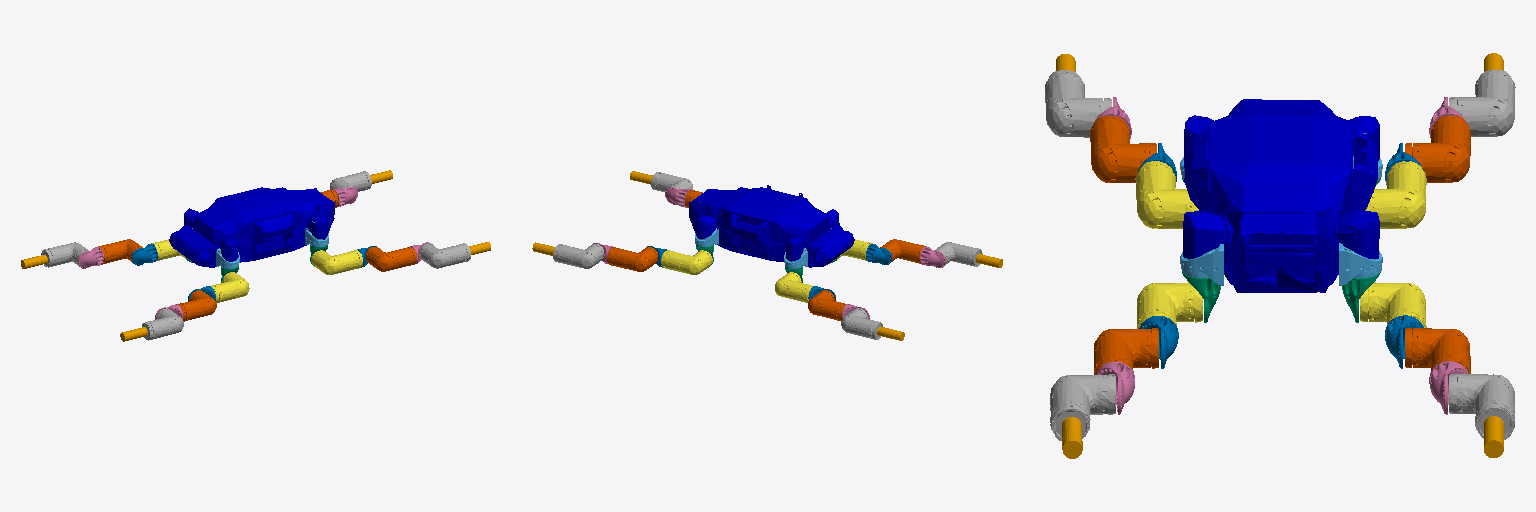
--- Render facts (derived) ---
Views: 3 orthographic renders of the robot side by side, from view 1: azimuth 30°, elevation 25°; view 2: azimuth 150°, elevation 25°; view 3: azimuth 270°, elevation 25°.
Robot: robosimian_caesar — 33 links, 32 joints (32 revolute); root link torso; default pose: all joints at 0.
Visible links, largest first — view 1: torso, limb1_link6, limb1_link2, limb1_link4, limb2_link6, limb2_link2, limb2_link4, limb3_link6, limb3_link4, limb4_link6; view 2: torso, limb4_link6, limb4_link2, limb4_link4, limb3_link6, limb3_link4, limb3_link2, limb2_link6, limb2_link4, limb1_link6; view 3: torso, limb4_link6, limb1_link6, limb3_link6, limb2_link4, limb3_link4, limb2_link6, limb2_link2, limb3_link2, limb4_link4, limb1_link4, limb1_link2 (+11 smaller).
Link boxes in pixels (left/top/right/bottom): torso: left=169, top=187, right=334, bottom=267; limb1_link6: left=420, top=243, right=470, bottom=268; limb1_link2: left=311, top=250, right=362, bottom=274; limb1_link4: left=366, top=247, right=416, bottom=271; limb2_link6: left=142, top=308, right=183, bottom=340; limb2_link2: left=211, top=272, right=249, bottom=303; limb2_link4: left=178, top=290, right=216, bottom=321; limb3_link6: left=41, top=242, right=88, bottom=267; limb3_link4: left=98, top=239, right=142, bottom=263; limb4_link6: left=330, top=171, right=371, bottom=191; torso: left=689, top=185, right=854, bottom=267; limb4_link6: left=553, top=244, right=604, bottom=268; limb4_link2: left=661, top=250, right=712, bottom=274; limb4_link4: left=607, top=247, right=657, bottom=271; limb3_link6: left=841, top=308, right=882, bottom=339; limb3_link4: left=808, top=290, right=845, bottom=320; limb3_link2: left=775, top=272, right=812, bottom=302; limb2_link6: left=934, top=242, right=982, bottom=266; limb2_link4: left=880, top=239, right=925, bottom=263; limb1_link6: left=651, top=172, right=692, bottom=191; torso: left=1183, top=99, right=1379, bottom=292; limb4_link6: left=1449, top=374, right=1514, bottom=439; limb1_link6: left=1050, top=374, right=1115, bottom=440; limb3_link6: left=1449, top=69, right=1515, bottom=136; limb2_link4: left=1090, top=116, right=1156, bottom=182; limb3_link4: left=1405, top=115, right=1470, bottom=182; limb2_link6: left=1045, top=70, right=1111, bottom=137; limb2_link2: left=1135, top=161, right=1198, bottom=228; limb3_link2: left=1365, top=161, right=1426, bottom=228; limb4_link4: left=1405, top=328, right=1470, bottom=373; limb1_link4: left=1094, top=328, right=1158, bottom=374; limb1_link2: left=1137, top=282, right=1202, bottom=328.
Bounding box of the posed robot: 2.42 × 1.24 × 0.3943 m (x, y, z).
33 mesh visuals loaded from 5 distinct referenced files (4 binary STL, 1 ASCII STL).

URDF robot description (robosimian_caesar):
<robot name="robosimian_caesar">
   <link name="torso">
      <inertial>
        <mass value="40.000000" />
        <origin xyz="-0.000820 -0.002060 -0.021800" rpy="0 0 0" />
        <inertia ixx="0.248970" ixy="0.000000" ixz="0.000000" iyy="0.703230" iyz="0.001820" izz="0.772560" />
      </inertial>
      <visual>
        <origin xyz="0 0 0" rpy="3.1415926 0 0" />
        <geometry>
           <mesh filename="stl_0_3/robosim_chassis.stl" scale="1 1 1" />
        </geometry>
        <material name="blue">
	      <color rgba="0 0 .8 1" />
        </material>
      </visual>
      <collision group="default">
        <origin rpy="3.1415926 0 0" xyz="0 0 0"/>
        <geometry>
           <box size="0.257 0.50 0.238"/>
        </geometry>
      </collision>
      <collision group="default">
        <origin rpy="3.1415926 0 0" xyz="0 0 0"/>
        <geometry>
           <box size="0.93 0.230 0.238"/>
        </geometry>
      </collision>
      <collision group="default">
        <origin rpy="3.1415926 0 -0.38153" xyz="0.25393 0.075769 0"/>
        <geometry>
           <box size="0.36257 0.23 0.238"/>
        </geometry>
      </collision>
      <collision group="default">
        <origin rpy="3.1415926 0 0.38153" xyz="-0.25393 0.075769 0"/>
        <geometry>
           <box size="0.36257 0.23 0.238"/>
        </geometry>
      </collision>
      <collision group="default">
        <origin rpy="3.1415926 0 0.38153" xyz="0.25393 -0.075769 0"/>
        <geometry>
           <box size="0.36257 0.23 0.238"/>
        </geometry>
      </collision>
      <collision group="default">
        <origin rpy="3.1415926 0 -0.38153" xyz="-0.25393 -0.075769 0"/>
        <geometry>
           <box size="0.36257 0.23 0.238"/>
        </geometry>
      </collision>
      <collision group="default">
        <origin rpy="3.1415926 -0.383972 0.000000" xyz="0.417050 0.000000 -0.158640"/>
        <geometry>
          <cylinder length="0.144" radius="0.05"/>
        </geometry>
      </collision>
   </link>

   <link name="limb1_link0">
      <inertial>
        <mass value="0.000000" />
        <origin xyz="0.000000 0.000000 0.000000" rpy="0 0 0" />
        <inertia ixx="0.000000" ixy="0.000000" ixz="0.000000" iyy="0.000000" iyz="0.000000" izz="0.000000" />
      </inertial>
      <visual>
        <origin xyz="0.000000 0 0" rpy="0 0 0" />
        <geometry>
           <mesh filename="stl_0_3/robosim_fts.stl" scale="1 1 1" />
        </geometry>
      </visual>
      <collision group="default">
        <origin rpy="3.1415 -1.57080 0" xyz="-.025 0 0"/>
        <geometry>
          <cylinder length="0.145" radius="0.05"/>
        </geometry>
      </collision>
   </link>

   <link name="limb1_link1">
      <inertial>
        <mass value="0.429000" />
        <origin xyz="-0.050402 0.012816 0.000000" rpy="0 0 0" />
        <inertia ixx="0.000741" ixy="-0.000215" ixz="0.000000" iyy="0.002044" iyz="0.000000" izz="0.001885" />
      </inertial>
      <visual>
        <origin xyz="0.000000 0 0" rpy="0 0 0" />
        <geometry>
           <mesh filename="stl_0_3/robosim_pitch_link.stl" scale="1 1 1" />
        </geometry>
      </visual>
      <collision group="default">
        <origin rpy="3.1415 -1.57080 0" xyz="-0.07 0 0"/>
        <geometry>
          <cylinder length="0.07" radius="0.055"/>
        </geometry>
      </collision>
   </link>

   <link name="limb1_link2">
      <inertial>
        <mass value="3.975000" />
        <origin xyz="0.067354 -0.096472 0.000262" rpy="0 0 0" />
        <inertia ixx="0.044712" ixy="-0.030354" ixz="0.000012" iyy="0.033445" iyz="-0.000141" izz="0.074293" />
      </inertial>
      <visual>
        <origin xyz="0.000000 0 0" rpy="0 0 0" />
        <geometry>
           <mesh filename="stl_0_3/robosim_roll_link.stl" scale="1 1 1" />
        </geometry>
      </visual>
      <collision group="default">
        <origin rpy="3.1415 -1.57080 0" xyz="0.065 -0.12 0"/>
        <geometry>
          <cylinder length="0.24" radius="0.055"/>
        </geometry>
      </collision>
      <collision group="default">
        <origin rpy="1.57080 1.57080 0.0" xyz="0.0 -0.035 0"/>
        <geometry>
          <cylinder length="0.075" radius="0.055"/>
        </geometry>
      </collision>
   </link>

   <link name="limb1_link3">
      <inertial>
        <mass value="0.429000" />
        <origin xyz="-0.050402 0.012816 0.000000" rpy="0 0 0" />
        <inertia ixx="0.000741" ixy="-0.000215" ixz="0.000000" iyy="0.002044" iyz="0.000000" izz="0.001885" />
      </inertial>
      <visual>
        <origin xyz="0.000000 0 0" rpy="0 0 0" />
        <geometry>
           <mesh filename="stl_0_3/robosim_pitch_link.stl" scale="1 1 1" />
        </geometry>
      </visual>
      <collision group="default">
        <origin rpy="3.1415 -1.57080 0" xyz="-0.07 0 0"/>
        <geometry>
          <cylinder length="0.07" radius="0.055"/>
        </geometry>
      </collision>
   </link>

   <link name="limb1_link4">
      <inertial>
        <mass value="3.975000" />
        <origin xyz="0.067354 -0.096472 0.000262" rpy="0 0 0" />
        <inertia ixx="0.044712" ixy="-0.030354" ixz="0.000012" iyy="0.033445" iyz="-0.000141" izz="0.074293" />
      </inertial>
      <visual>
        <origin xyz="0.000000 0 0" rpy="0 0 0" />
        <geometry>
           <mesh filename="stl_0_3/robosim_roll_link.stl" scale="1 1 1" />
        </geometry>
      </visual>
      <collision group="default">
        <origin rpy="3.1415 -1.57080 0" xyz="0.065 -0.12 0"/>
        <geometry>
          <cylinder length="0.24" radius="0.055"/>
        </geometry>
      </collision>
      <collision group="default">
        <origin rpy="1.57080 1.57080 0.0" xyz="0.0 -0.035 0"/>
        <geometry>
          <cylinder length="0.075" radius="0.055"/>
        </geometry>
      </collision>
   </link>

   <link name="limb1_link5">
      <inertial>
        <mass value="0.429000" />
        <origin xyz="-0.050402 0.012816 0.000000" rpy="0 0 0" />
        <inertia ixx="0.000741" ixy="-0.000215" ixz="0.000000" iyy="0.002044" iyz="0.000000" izz="0.001885" />
      </inertial>
      <visual>
        <origin xyz="0.000000 0 0" rpy="0 0 0" />
        <geometry>
           <mesh filename="stl_0_3/robosim_pitch_link.stl" scale="1 1 1" />
        </geometry>
      </visual>
      <collision group="default">
        <origin rpy="3.1415 -1.57080 0" xyz="-0.07 0 0"/>
        <geometry>
          <cylinder length="0.07" radius="0.055"/>
        </geometry>
      </collision>
   </link>

   <link name="limb1_link6">
      <inertial>
        <mass value="3.975000" />
        <origin xyz="0.067354 -0.096472 0.000262" rpy="0 0 0" />
        <inertia ixx="0.044712" ixy="-0.030354" ixz="0.000012" iyy="0.033445" iyz="-0.000141" izz="0.074293" />
      </inertial>
      <visual>
        <origin xyz="0.000000 0 0" rpy="0 0 0" />
        <geometry>
           <mesh filename="stl_0_3/robosim_roll_link.stl" scale="1 1 1" />
        </geometry>
      </visual>
      <collision group="default">
        <origin rpy="3.1415 -1.57080 0" xyz="0.065 -0.12 0"/>
        <geometry>
          <cylinder length="0.24" radius="0.055"/>
        </geometry>
      </collision>
      <collision group="default">
        <origin rpy="1.57080 1.57080 0.0" xyz="0.0 -0.035 0"/>
        <geometry>
          <cylinder length="0.075" radius="0.055"/>
        </geometry>
      </collision>
   </link>

   <link name="limb1_link7">
      <inertial>
        <mass value="1.760000" />
        <origin xyz="0.112290 -0.000164 0.000000" rpy="0 0 0" />
        <inertia ixx="0.001913" ixy="-0.000007" ixz="0.000000" iyy="0.006680" iyz="0.000000" izz="0.006125" />
      </inertial>
      <visual>
        <origin xyz="0.000000 0 0" rpy="0 0 0" />
        <geometry>
           <mesh filename="stl_0_3/ankle_mm.STL" scale="0.001 0.001 0.001" />
        </geometry>
      </visual>
      <collision group="default">
        <origin rpy="3.1415 -1.57080 0" xyz="0.075 0 0"/>
        <geometry>
          <cylinder length="0.15" radius="0.05"/>
        </geometry>
      </collision>
   </link>



   <joint name="limb1_joint0" type="revolute">
      <origin xyz="0.29326 -0.20940 -0.03650"  rpy="0.00000 1.57080 3.1515926" />
      <parent link="torso" />
      <child link="limb1_link0" />
      <axis xyz="0 0 1" />
      <limit effort="1000.0" lower="-3.4906" upper="3.4906" velocity="0.5"/>
      <dynamics damping="0" friction="0"/>
   </joint>

   <joint name="limb1_joint1" type="revolute">
      <origin xyz="0.17203 0.00000 0.00000"  rpy="3.14159 -0.00000 0.00000" />
      <axis xyz="1 0 0" />
      <parent link="limb1_link0" />
      <child link="limb1_link1" />
      <limit effort="1000.0" lower="-3.1415" upper="3.1415" velocity="0.5"/>
      <dynamics damping="0" friction="0"/>
   </joint>

   <joint name="limb1_joint2" type="revolute">
      <origin xyz="0.00000 0.00000 0.00000"  rpy="0.00000 -1.5708 0.00000" />
      <axis xyz="0 -1 0" />
      <parent link="limb1_link1" />
      <child link="limb1_link2" />
      <limit effort="1000.0" lower="-3.1415" upper="3.1415" velocity="0.5"/>
      <dynamics damping="0" friction="0"/>
   </joint>

   <joint name="limb1_joint3" type="revolute">
      <origin xyz="0.28650 -0.11700 0.00000"  rpy="0.00000 -0.00000 0.00000" />
      <axis xyz="1 0 0" />
      <parent link="limb1_link2" />
      <child link="limb1_link3" />
      <limit effort="1000.0" lower="-3.1415" upper="3.1415" velocity="0.5"/>
      <dynamics damping="0" friction="0"/>
   </joint>

   <joint name="limb1_joint4" type="revolute">
      <origin xyz="0.00000 0.00000 0.00000"  rpy="0.00000 -0.00000 0.00000" />
      <axis xyz="0 -1 0" />
      <parent link="limb1_link3" />
      <child link="limb1_link4" />
      <limit effort="1000.0" lower="-3.1415" upper="3.1415" velocity="0.5"/>
      <dynamics damping="0" friction="0"/>
   </joint>

   <joint name="limb1_joint5" type="revolute">
      <origin xyz="0.28650 -0.11700 0.00000"  rpy="0.00000 -0.00000 0.00000" />
      <axis xyz="1 0 0" />
      <parent link="limb1_link4" />
      <child link="limb1_link5" />
      <limit effort="1000.0" lower="-3.1415" upper="3.1415" velocity="0.5"/>
      <dynamics damping="0" friction="0"/>
   </joint>

   <joint name="limb1_joint6" type="revolute">
      <origin xyz="0.00000 0.00000 0.00000"  rpy="0.00000 -0.00000 0.00000" />
      <axis xyz="0 -1 0" />
      <parent link="limb1_link5" />
      <child link="limb1_link6" />
      <limit effort="1000.0" lower="-3.1415" upper="3.1415" velocity="0.5"/>
      <dynamics damping="0" friction="0"/>
   </joint>

   <joint name="limb1_joint7" type="revolute">
      <origin xyz="0.19250 -0.11700 0.00000"  rpy="0.00000 -0.00000 0.00000" />
      <axis xyz="1 0 0" />
      <parent link="limb1_link6" />
      <child link="limb1_link7" />
      <limit effort="1000.0" lower="-3.1415" upper="3.1415" velocity="0.5"/>
      <dynamics damping="0" friction="0"/>
   </joint>



   <link name="limb2_link0">
      <inertial>
        <mass value="0.000000" />
        <origin xyz="0.000000 0.000000 0.000000" rpy="0 0 0" />
        <inertia ixx="0.000000" ixy="0.000000" ixz="0.000000" iyy="0.000000" iyz="0.000000" izz="0.000000" />
      </inertial>
      <visual>
        <origin xyz="0.000000 0 0" rpy="0 0 0" />
        <geometry>
           <mesh filename="stl_0_3/robosim_fts.stl" scale="1 1 1" />
        </geometry>
      </visual>
      <collision group="default">
        <origin rpy="3.1415 -1.57080 0" xyz="-.025 0 0"/>
        <geometry>
          <cylinder length="0.145" radius="0.05"/>
        </geometry>
      </collision>
   </link>

   <link name="limb2_link1">
      <inertial>
        <mass value="0.429000" />
        <origin xyz="-0.050402 0.012816 0.000000" rpy="0 0 0" />
        <inertia ixx="0.000741" ixy="-0.000215" ixz="0.000000" iyy="0.002044" iyz="0.000000" izz="0.001885" />
      </inertial>
      <visual>
        <origin xyz="0.000000 0 0" rpy="0 0 0" />
        <geometry>
           <mesh filename="stl_0_3/robosim_pitch_link.stl" scale="1 1 1" />
        </geometry>
      </visual>
      <collision group="default">
        <origin rpy="3.1415 -1.57080 0" xyz="-0.07 0 0"/>
        <geometry>
          <cylinder length="0.07" radius="0.055"/>
        </geometry>
      </collision>
   </link>

   <link name="limb2_link2">
      <inertial>
        <mass value="3.975000" />
        <origin xyz="0.067354 -0.096472 0.000262" rpy="0 0 0" />
        <inertia ixx="0.044712" ixy="-0.030354" ixz="0.000012" iyy="0.033445" iyz="-0.000141" izz="0.074293" />
      </inertial>
      <visual>
        <origin xyz="0.000000 0 0" rpy="0 0 0" />
        <geometry>
           <mesh filename="stl_0_3/robosim_roll_link.stl" scale="1 1 1" />
        </geometry>
      </visual>
      <collision group="default">
        <origin rpy="3.1415 -1.57080 0" xyz="0.065 -0.12 0"/>
        <geometry>
          <cylinder length="0.24" radius="0.055"/>
        </geometry>
      </collision>
      <collision group="default">
        <origin rpy="1.57080 1.57080 0.0" xyz="0.0 -0.035 0"/>
        <geometry>
          <cylinder length="0.075" radius="0.055"/>
        </geometry>
      </collision>
   </link>

   <link name="limb2_link3">
      <inertial>
        <mass value="0.429000" />
        <origin xyz="-0.050402 0.012816 0.000000" rpy="0 0 0" />
        <inertia ixx="0.000741" ixy="-0.000215" ixz="0.000000" iyy="0.002044" iyz="0.000000" izz="0.001885" />
      </inertial>
      <visual>
        <origin xyz="0.000000 0 0" rpy="0 0 0" />
        <geometry>
           <mesh filename="stl_0_3/robosim_pitch_link.stl" scale="1 1 1" />
        </geometry>
      </visual>
      <collision group="default">
        <origin rpy="3.1415 -1.57080 0" xyz="-0.07 0 0"/>
        <geometry>
          <cylinder length="0.07" radius="0.055"/>
        </geometry>
      </collision>
   </link>

   <link name="limb2_link4">
      <inertial>
        <mass value="3.975000" />
        <origin xyz="0.067354 -0.096472 0.000262" rpy="0 0 0" />
        <inertia ixx="0.044712" ixy="-0.030354" ixz="0.000012" iyy="0.033445" iyz="-0.000141" izz="0.074293" />
      </inertial>
      <visual>
        <origin xyz="0.000000 0 0" rpy="0 0 0" />
        <geometry>
           <mesh filename="stl_0_3/robosim_roll_link.stl" scale="1 1 1" />
        </geometry>
      </visual>
      <collision group="default">
        <origin rpy="3.1415 -1.57080 0" xyz="0.065 -0.12 0"/>
        <geometry>
          <cylinder length="0.24" radius="0.055"/>
        </geometry>
      </collision>
      <collision group="default">
        <origin rpy="1.57080 1.57080 0.0" xyz="0.0 -0.035 0"/>
        <geometry>
          <cylinder length="0.075" radius="0.055"/>
        </geometry>
      </collision>
   </link>

   <link name="limb2_link5">
      <inertial>
        <mass value="0.429000" />
        <origin xyz="-0.050402 0.012816 0.000000" rpy="0 0 0" />
        <inertia ixx="0.000741" ixy="-0.000215" ixz="0.000000" iyy="0.002044" iyz="0.000000" izz="0.001885" />
      </inertial>
      <visual>
        <origin xyz="0.000000 0 0" rpy="0 0 0" />
        <geometry>
           <mesh filename="stl_0_3/robosim_pitch_link.stl" scale="1 1 1" />
        </geometry>
      </visual>
      <collision group="default">
        <origin rpy="3.1415 -1.57080 0" xyz="-0.07 0 0"/>
        <geometry>
          <cylinder length="0.07" radius="0.055"/>
        </geometry>
      </collision>
   </link>

   <link name="limb2_link6">
      <inertial>
        <mass value="3.975000" />
        <origin xyz="0.067354 -0.096472 0.000262" rpy="0 0 0" />
        <inertia ixx="0.044712" ixy="-0.030354" ixz="0.000012" iyy="0.033445" iyz="-0.000141" izz="0.074293" />
      </inertial>
      <visual>
        <origin xyz="0.000000 0 0" rpy="0 0 0" />
        <geometry>
           <mesh filename="stl_0_3/robosim_roll_link.stl" scale="1 1 1" />
        </geometry>
      </visual>
      <collision group="default">
        <origin rpy="3.1415 -1.57080 0" xyz="0.065 -0.12 0"/>
        <geometry>
          <cylinder length="0.24" radius="0.055"/>
        </geometry>
      </collision>
      <collision group="default">
        <origin rpy="1.57080 1.57080 0.0" xyz="0.0 -0.035 0"/>
        <geometry>
          <cylinder length="0.075" radius="0.055"/>
        </geometry>
      </collision>
      <collision group="default">
        <origin rpy="1.57080 1.57080 0.0" xyz="0.0 -0.19 0"/>
        <geometry>
          <cylinder length="0.0375" radius="0.080"/>
        </geometry>
      </collision>
   </link>

   <link name="limb2_link7">
      <inertial>
        <mass value="1.760000" />
        <origin xyz="0.112290 -0.000164 0.000000" rpy="0 0 0" />
        <inertia ixx="0.001913" ixy="-0.000007" ixz="0.000000" iyy="0.006680" iyz="0.000000" izz="0.006125" />
      </inertial>
      <visual>
        <origin xyz="0.000000 0 0" rpy="0 0 0" />
        <geometry>
           <mesh filename="stl_0_3/ankle_mm.STL" scale="0.001 0.001 0.001" />
        </geometry>
      </visual>
      <collision group="default">
        <origin rpy="3.1415 -1.57080 0" xyz="0.075 0 0"/>
        <geometry>
          <cylinder length="0.15" radius="0.05"/>
        </geometry>
      </collision>
   </link>


   <joint name="limb2_joint0" type="revolute">
      <origin xyz="-0.29326 -0.20940 -0.03650"  rpy="0.00000 1.57080 3.1515926" />
      <parent link="torso" />
      <child link="limb2_link0" />
      <axis xyz="0 0 1" />
      <limit effort="1000.0" lower="-3.4906" upper="3.4906" velocity="0.5"/>
      <dynamics damping="0" friction="0"/>
   </joint>

   <joint name="limb2_joint1" type="revolute">
      <origin xyz="0.17203 0.00000 0.00000"  rpy="3.14159 -0.00000 0.00000" />
      <axis xyz="1 0 0" />
      <parent link="limb2_link0" />
      <child link="limb2_link1" />
      <limit effort="1000.0" lower="-3.1415" upper="3.1415" velocity="0.5"/>
      <dynamics damping="0" friction="0"/>
   </joint>

   <joint name="limb2_joint2" type="revolute">
      <origin xyz="0.00000 0.00000 0.00000"  rpy="0.00000 1.57080 0.00000" />
      <axis xyz="0 -1 0" />
      <parent link="limb2_link1" />
      <child link="limb2_link2" />
      <limit effort="1000.0" lower="-3.1415" upper="3.1415" velocity="0.5"/>
      <dynamics damping="0" friction="0"/>
   </joint>

   <joint name="limb2_joint3" type="revolute">
      <origin xyz="0.28650 -0.11700 0.00000"  rpy="0.00000 -0.00000 0.00000" />
      <axis xyz="1 0 0" />
      <parent link="limb2_link2" />
      <child link="limb2_link3" />
      <limit effort="1000.0" lower="-3.1415" upper="3.1415" velocity="0.5"/>
      <dynamics damping="0" friction="0"/>
   </joint>

   <joint name="limb2_joint4" type="revolute">
      <origin xyz="0.00000 0.00000 0.00000"  rpy="0.00000 -0.00000 0.00000" />
      <axis xyz="0 -1 0" />
      <parent link="limb2_link3" />
      <child link="limb2_link4" />
      <limit effort="1000.0" lower="-3.1415" upper="3.1415" velocity="0.5"/>
      <dynamics damping="0" friction="0"/>
   </joint>

   <joint name="limb2_joint5" type="revolute">
      <origin xyz="0.28650 -0.11700 0.00000"  rpy="0.00000 -0.00000 0.00000" />
      <axis xyz="1 0 0" />
      <parent link="limb2_link4" />
      <child link="limb2_link5" />
      <limit effort="1000.0" lower="-3.1415" upper="3.1415" velocity="0.5"/>
      <dynamics damping="0" friction="0"/>
   </joint>

   <joint name="limb2_joint6" type="revolute">
      <origin xyz="0.00000 0.00000 0.00000"  rpy="0.00000 -0.00000 0.00000" />
      <axis xyz="0 -1 0" />
      <parent link="limb2_link5" />
      <child link="limb2_link6" />
      <limit effort="1000.0" lower="-3.1415" upper="3.1415" velocity="0.5"/>
      <dynamics damping="0" friction="0"/>
   </joint>

   <joint name="limb2_joint7" type="revolute">
      <origin xyz="0.19250 -0.11700 0.00000"  rpy="0.00000 -0.00000 0.00000" />
      <axis xyz="1 0 0" />
      <parent link="limb2_link6" />
      <child link="limb2_link7" />
      <limit effort="1000.0" lower="-3.1415" upper="3.1415" velocity="0.5"/>
      <dynamics damping="0" friction="0"/>
   </joint>




   <link name="limb3_link0">
      <inertial>
        <mass value="0.000000" />
        <origin xyz="0.000000 0.000000 0.000000" rpy="0 0 0" />
        <inertia ixx="0.000000" ixy="0.000000" ixz="0.000000" iyy="0.000000" iyz="0.000000" izz="0.000000" />
      </inertial>
      <visual>
        <origin xyz="0.000000 0 0" rpy="0 0 0" />
        <geometry>
           <mesh filename="stl_0_3/robosim_fts.stl" scale="1 1 1" />
        </geometry>
      </visual>
      <collision group="default">
        <origin rpy="3.1415 -1.57080 0" xyz="-.025 0 0"/>
        <geometry>
          <cylinder length="0.145" radius="0.05"/>
        </geometry>
      </collision>
   </link>

   <link name="limb3_link1">
      <inertial>
        <mass value="0.429000" />
        <origin xyz="-0.050402 0.012816 0.000000" rpy="0 0 0" />
        <inertia ixx="0.000741" ixy="-0.000215" ixz="0.000000" iyy="0.002044" iyz="0.000000" izz="0.001885" />
      </inertial>
      <visual>
        <origin xyz="0.000000 0 0" rpy="0 0 0" />
        <geometry>
           <mesh filename="stl_0_3/robosim_pitch_link.stl" scale="1 1 1" />
        </geometry>
      </visual>
      <collision group="default">
        <origin rpy="3.1415 -1.57080 0" xyz="-0.07 0 0"/>
        <geometry>
          <cylinder length="0.07" radius="0.055"/>
        </geometry>
      </collision>
   </link>

   <link name="limb3_link2">
      <inertial>
        <mass value="3.975000" />
        <origin xyz="0.067354 -0.096472 0.000262" rpy="0 0 0" />
        <inertia ixx="0.044712" ixy="-0.030354" ixz="0.000012" iyy="0.033445" iyz="-0.000141" izz="0.074293" />
      </inertial>
      <visual>
        <origin xyz="0.000000 0 0" rpy="0 0 0" />
        <geometry>
           <mesh filename="stl_0_3/robosim_roll_link.stl" scale="1 1 1" />
        </geometry>
      </visual>
      <collision group="default">
        <origin rpy="3.1415 -1.57080 0" xyz="0.065 -0.12 0"/>
        <geometry>
          <cylinder length="0.24" radius="0.055"/>
        </geometry>
      </collision>
      <collision group="default">
        <origin rpy="1.57080 1.57080 0.0" xyz="0.0 -0.035 0"/>
        <geometry>
          <cylinder length="0.075" radius="0.055"/>
        </geometry>
      </collision>
   </link>

   <link name="limb3_link3">
      <inertial>
        <mass value="0.429000" />
        <origin xyz="-0.050402 0.012816 0.000000" rpy="0 0 0" />
        <inertia ixx="0.000741" ixy="-0.000215" ixz="0.000000" iyy="0.002044" iyz="0.000000" izz="0.001885" />
      </inertial>
      <visual>
        <origin xyz="0.000000 0 0" rpy="0 0 0" />
        <geometry>
           <mesh filename="stl_0_3/robosim_pitch_link.stl" scale="1 1 1" />
        </geometry>
      </visual>
      <collision group="default">
        <origin rpy="3.1415 -1.57080 0" xyz="-0.07 0 0"/>
        <geometry>
          <cylinder length="0.07" radius="0.055"/>
        </geometry>
      </collision>
   </link>

   <link name="limb3_link4">
      <inertial>
        <mass value="3.975000" />
        <origin xyz="0.067354 -0.096472 0.000262" rpy="0 0 0" />
        <inertia ixx="0.044712" ixy="-0.030354" ixz="0.000012" iyy="0.033445" iyz="-0.000141" izz="0.074293" />
      </inertial>
      <visual>
        <origin xyz="0.000000 0 0" rpy="0 0 0" />
        <geometry>
           <mesh filename="stl_0_3/robosim_roll_link.stl" scale="1 1 1" />
        </geometry>
      </visual>
      <collision group="default">
        <origin rpy="3.1415 -1.57080 0" xyz="0.065 -0.12 0"/>
        <geometry>
          <cylinder length="0.24" radius="0.055"/>
        </geometry>
      </collision>
      <collision group="default">
        <origin rpy="1.57080 1.57080 0.0" xyz="0.0 -0.035 0"/>
        <geometry>
          <cylinder length="0.075" radius="0.055"/>
        </geometry>
      </collision>
   </link>

   <link name="limb3_link5">
      <inertial>
        <mass value="0.429000" />
        <origin xyz="-0.050402 0.012816 0.000000" rpy="0 0 0" />
        <inertia ixx="0.000741" ixy="-0.000215" ixz="0.000000" iyy="0.002044" iyz="0.000000" izz="0.001885" />
      </inertial>
      <visual>
        <origin xyz="0.000000 0 0" rpy="0 0 0" />
        <geometry>
           <mesh filename="stl_0_3/robosim_pitch_link.stl" scale="1 1 1" />
        </geometry>
      </visual>
      <collision group="default">
        <origin rpy="3.1415 -1.57080 0" xyz="-0.07 0 0"/>
        <geometry>
          <cylinder length="0.07" radius="0.055"/>
        </geometry>
      </collision>
   </link>

   <link name="limb3_link6">
      <inertial>
        <mass value="3.975000" />
        <origin xyz="0.067354 -0.096472 0.000262" rpy="0 0 0" />
        <inertia ixx="0.044712" ixy="-0.030354" ixz="0.000012" iyy="0.033445" iyz="-0.000141" izz="0.074293" />
      </inertial>
      <visual>
        <origin xyz="0.000000 0 0" rpy="0 0 0" />
        <geometry>
           <mesh filename="stl_0_3/robosim_roll_link.stl" scale="1 1 1" />
        </geometry>
      </visual>
      <collision group="default">
        <origin rpy="3.1415 -1.57080 0" xyz="0.065 -0.12 0"/>
        <geometry>
          <cylinder length="0.24" radius="0.055"/>
        </geometry>
      </collision>
      <collision group="default">
        <origin rpy="1.57080 1.57080 0.0" xyz="0.0 -0.035 0"/>
        <geometry>
          <cylinder length="0.075" radius="0.055"/>
        </geometry>
      </collision>
      <collision group="default">
        <origin rpy="1.57080 1.57080 0.0" xyz="0.0 -0.19 0"/>
        <geometry>
          <cylinder length="0.0375" radius="0.080"/>
        </geometry>
      </collision>
   </link>

   <link name="limb3_link7">
      <inertial>
        <mass value="1.760000" />
        <origin xyz="0.112290 -0.000164 0.000000" rpy="0 0 0" />
        <inertia ixx="0.001913" ixy="-0.000007" ixz="0.000000" iyy="0.006680" iyz="0.000000" izz="0.006125" />
      </inertial>
      <visual>
        <origin xyz="0.000000 0 0" rpy="0 0 0" />
        <geometry>
           <mesh filename="stl_0_3/ankle_mm.STL" scale="0.001 0.001 0.001" />
        </geometry>
      </visual>
      <collision group="default">
        <origin rpy="3.1415 -1.57080 0" xyz="0.075 0 0"/>
        <geometry>
          <cylinder length="0.15" radius="0.05"/>
        </geometry>
      </collision>
   </link>


   <joint name="limb3_joint0" type="revolute">
      <origin xyz="-0.29326 0.20940 -0.03650"  rpy="0.00000 1.57080 0" />
      <parent link="torso" />
      <child link="limb3_link0" />
      <axis xyz="0 0 1" />
      <limit effort="1000.0" lower="-3.4906" upper="3.4906" velocity="0.5"/>
      <dynamics damping="0" friction="0"/>
   </joint>

   <joint name="limb3_joint1" type="revolute">
      <origin xyz="0.17203 0.00000 0.00000"  rpy="3.14159 -0.00000 0.00000" />
      <axis xyz="1 0 0" />
      <parent link="limb3_link0" />
      <child link="limb3_link1" />
      <limit effort="1000.0" lower="-3.1415" upper="3.1415" velocity="0.5"/>
      <dynamics damping="0" friction="0.000000"/>
   </joint>

   <joint name="limb3_joint2" type="revolute">
      <origin xyz="0.00000 0.00000 0.00000"  rpy="0.00000 -1.5708 0.00000" />
      <axis xyz="0 -1 0" />
      <parent link="limb3_link1" />
      <child link="limb3_link2" />
      <limit effort="1000.0" lower="-3.1415" upper="3.1415" velocity="0.5"/>
      <dynamics damping="0.000000" friction="0.000000"/>
   </joint>

   <joint name="limb3_joint3" type="revolute">
      <origin xyz="0.28650 -0.11700 0.00000"  rpy="0.00000 -0.00000 0.00000" />
      <axis xyz="1 0 0" />
      <parent link="limb3_link2" />
      <child link="limb3_link3" />
      <limit effort="1000.0" lower="-3.1415" upper="3.1415" velocity="0.5"/>
      <dynamics damping="0" friction="0.000000"/>
   </joint>

   <joint name="limb3_joint4" type="revolute">
      <origin xyz="0.00000 0.00000 0.00000"  rpy="0.00000 -0.00000 0.00000" />
      <axis xyz="0 -1 0" />
      <parent link="limb3_link3" />
      <child link="limb3_link4" />
      <limit effort="1000.0" lower="-3.1415" upper="3.1415" velocity="0.5"/>
      <dynamics damping="0" friction="0"/>
   </joint>

   <joint name="limb3_joint5" type="revolute">
      <origin xyz="0.28650 -0.11700 0.00000"  rpy="0.00000 -0.00000 0.00000" />
      <axis xyz="1 0 0" />
      <parent link="limb3_link4" />
      <child link="limb3_link5" />
      <limit effort="1000.0" lower="-3.1415" upper="3.1415" velocity="0.5"/>
      <dynamics damping="0" friction="0"/>
   </joint>

   <joint name="limb3_joint6" type="revolute">
      <origin xyz="0.00000 0.00000 0.00000"  rpy="0.00000 -0.00000 0.00000" />
      <axis xyz="0 -1 0" />
      <parent link="limb3_link5" />
      <child link="limb3_link6" />
      <limit effort="1000.0" lower="-3.1415" upper="3.1415" velocity="0.5"/>
      <dynamics damping="0" friction="0"/>
   </joint>

   <joint name="limb3_joint7" type="revolute">
      <origin xyz="0.19250 -0.11700 0.00000"  rpy="0.00000 -0.00000 0.00000" />
      <axis xyz="1 0 0" />
      <parent link="limb3_link6" />
      <child link="limb3_link7" />
      <limit effort="1000.0" lower="-3.1415" upper="3.1415" velocity="0.5"/>
      <dynamics damping="0" friction="0"/>
   </joint>



   <link name="limb4_link0">
      <inertial>
        <mass value="0.000000" />
        <origin xyz="0.000000 0.000000 0.000000" rpy="0 0 0" />
        <inertia ixx="0.000000" ixy="0.000000" ixz="0.000000" iyy="0.000000" iyz="0.000000" izz="0.000000" />
      </inertial>
      <visual>
        <origin xyz="0.000000 0 0" rpy="0 0 0" />
        <geometry>
           <mesh filename="stl_0_3/robosim_fts.stl" scale="1 1 1" />
        </geometry>
      </visual>
      <collision group="default">
        <origin rpy="3.1415 -1.57080 0" xyz="-.025 0 0"/>
        <geometry>
          <cylinder length="0.145" radius="0.05"/>
        </geometry>
      </collision>
   </link>

   <link name="limb4_link1">
      <inertial>
        <mass value="0.429000" />
        <origin xyz="-0.050402 0.012816 0.000000" rpy="0 0 0" />
        <inertia ixx="0.000741" ixy="-0.000215" ixz="0.000000" iyy="0.002044" iyz="0.000000" izz="0.001885" />
      </inertial>
      <visual>
        <origin xyz="0.000000 0 0" rpy="0 0 0" />
        <geometry>
           <mesh filename="stl_0_3/robosim_pitch_link.stl" scale="1 1 1" />
        </geometry>
      </visual>
      <collision group="default">
        <origin rpy="3.1415 -1.57080 0" xyz="-0.07 0 0"/>
        <geometry>
          <cylinder length="0.07" radius="0.055"/>
        </geometry>
      </collision>
   </link>

   <link name="limb4_link2">
      <inertial>
        <mass value="3.975000" />
        <origin xyz="0.067354 -0.096472 0.000262" rpy="0 0 0" />
        <inertia ixx="0.044712" ixy="-0.030354" ixz="0.000012" iyy="0.033445" iyz="-0.000141" izz="0.074293" />
      </inertial>
      <visual>
        <origin xyz="0.000000 0 0" rpy="0 0 0" />
        <geometry>
           <mesh filename="stl_0_3/robosim_roll_link.stl" scale="1 1 1" />
        </geometry>
      </visual>
      <collision group="default">
        <origin rpy="3.1415 -1.57080 0" xyz="0.065 -0.12 0"/>
        <geometry>
          <cylinder length="0.24" radius="0.055"/>
        </geometry>
      </collision>
      <collision group="default">
        <origin rpy="1.57080 1.57080 0.0" xyz="0.0 -0.035 0"/>
        <geometry>
          <cylinder length="0.075" radius="0.055"/>
        </geometry>
      </collision>
   </link>

   <link name="limb4_link3">
      <inertial>
        <mass value="0.429000" />
        <origin xyz="-0.050402 0.012816 0.000000" rpy="0 0 0" />
        <inertia ixx="0.000741" ixy="-0.000215" ixz="0.000000" iyy="0.002044" iyz="0.000000" izz="0.001885" />
      </inertial>
      <visual>
        <origin xyz="0.000000 0 0" rpy="0 0 0" />
        <geometry>
           <mesh filename="stl_0_3/robosim_pitch_link.stl" scale="1 1 1" />
        </geometry>
      </visual>
      <collision group="default">
        <origin rpy="3.1415 -1.57080 0" xyz="-0.07 0 0"/>
        <geometry>
          <cylinder length="0.07" radius="0.055"/>
        </geometry>
      </collision>
   </link>

   <link name="limb4_link4">
      <inertial>
        <mass value="3.975000" />
        <origin xyz="0.067354 -0.096472 0.000262" rpy="0 0 0" />
        <inertia ixx="0.044712" ixy="-0.030354" ixz="0.000012" iyy="0.033445" iyz="-0.000141" izz="0.074293" />
      </inertial>
      <visual>
        <origin xyz="0.000000 0 0" rpy="0 0 0" />
        <geometry>
           <mesh filename="stl_0_3/robosim_roll_link.stl" scale="1 1 1" />
        </geometry>
      </visual>
      <collision group="default">
        <origin rpy="3.1415 -1.57080 0" xyz="0.065 -0.12 0"/>
        <geometry>
          <cylinder length="0.24" radius="0.055"/>
        </geometry>
      </collision>
      <collision group="default">
        <origin rpy="1.57080 1.57080 0.0" xyz="0.0 -0.035 0"/>
        <geometry>
          <cylinder length="0.075" radius="0.055"/>
        </geometry>
      </collision>
   </link>

   <link name="limb4_link5">
      <inertial>
        <mass value="0.429000" />
        <origin xyz="-0.050402 0.012816 0.000000" rpy="0 0 0" />
        <inertia ixx="0.000741" ixy="-0.000215" ixz="0.000000" iyy="0.002044" iyz="0.000000" izz="0.001885" />
      </inertial>
      <visual>
        <origin xyz="0.000000 0 0" rpy="0 0 0" />
        <geometry>
           <mesh filename="stl_0_3/robosim_pitch_link.stl" scale="1 1 1" />
        </geometry>
      </visual>
      <collision group="default">
        <origin rpy="3.1415 -1.57080 0" xyz="-0.07 0 0"/>
        <geometry>
          <cylinder length="0.07" radius="0.055"/>
        </geometry>
      </collision>
   </link>

   <link name="limb4_link6">
      <inertial>
        <mass value="3.975000" />
        <origin xyz="0.067354 -0.096472 0.000262" rpy="0 0 0" />
        <inertia ixx="0.044712" ixy="-0.030354" ixz="0.000012" iyy="0.033445" iyz="-0.000141" izz="0.074293" />
      </inertial>
      <visual>
        <origin xyz="0.000000 0 0" rpy="0 0 0" />
        <geometry>
           <mesh filename="stl_0_3/robosim_roll_link.stl" scale="1 1 1" />
        </geometry>
      </visual>
      <collision group="default">
        <origin rpy="3.1415 -1.57080 0" xyz="0.065 -0.12 0"/>
        <geometry>
          <cylinder length="0.24" radius="0.055"/>
        </geometry>
      </collision>
      <collision group="default">
        <origin rpy="1.57080 1.57080 0.0" xyz="0.0 -0.035 0"/>
        <geometry>
          <cylinder length="0.075" radius="0.055"/>
        </geometry>
      </collision>
   </link>


   <link name="limb4_link7">
      <inertial>
        <mass value="1.760000" />
        <origin xyz="0.112290 -0.000164 0.000000" rpy="0 0 0" />
        <inertia ixx="0.001913" ixy="-0.000007" ixz="0.000000" iyy="0.006680" iyz="0.000000" izz="0.006125" />
      </inertial>
      <visual>
        <origin xyz="0.000000 0 0" rpy="0 0 0" />
        <geometry>
           <mesh filename="stl_0_3/ankle_mm.STL" scale="0.001 0.001 0.001" />
        </geometry>
      </visual>
      <collision group="default">
        <origin rpy="3.1415 -1.57080 0" xyz="0.075 0 0"/>
        <geometry>
          <cylinder length="0.15" radius="0.05"/>
        </geometry>
      </collision>
   </link>


   <joint name="limb4_joint0" type="revolute">
      <origin xyz="0.29326 0.20940 -0.03650"  rpy="0.00000 1.57080 0" />
      <parent link="torso" />
      <child link="limb4_link0" />
      <axis xyz="0 0 1" />
      <limit effort="1000.0" lower="-3.4906" upper="3.4906" velocity="0.5"/>
      <dynamics damping="0" friction="0"/>
   </joint>

   <joint name="limb4_joint1" type="revolute">
      <origin xyz="0.17203 0.00000 0.00000"  rpy="3.14159 -0.00000 0.00000" />
      <axis xyz="1 0 0" />
      <parent link="limb4_link0" />
      <child link="limb4_link1" />
      <limit effort="1000.0" lower="-3.1415" upper="3.1415" velocity="0.5"/>
      <dynamics damping="1.000000" friction="10.000000"/>
   </joint>

   <joint name="limb4_joint2" type="revolute">
      <origin xyz="0.00000 0.00000 0.00000"  rpy="0.00000 1.5708 0.00000" />
      <axis xyz="0 -1 0" />
      <parent link="limb4_link1" />
      <child link="limb4_link2" />
      <limit effort="1000.0" lower="-3.1415" upper="3.1415" velocity="0.5"/>
      <dynamics damping="0" friction="0"/>
   </joint>

   <joint name="limb4_joint3" type="revolute">
      <origin xyz="0.28650 -0.11700 0.00000"  rpy="0.00000 -0.00000 0.00000" />
      <axis xyz="1 0 0" />
      <parent link="limb4_link2" />
      <child link="limb4_link3" />
      <limit effort="1000.0" lower="-3.1415" upper="3.1415" velocity="0.5"/>
      <dynamics damping="0" friction="0"/>
   </joint>

   <joint name="limb4_joint4" type="revolute">
      <origin xyz="0.00000 0.00000 0.00000"  rpy="0.00000 -0.00000 0.00000" />
      <axis xyz="0 -1 0" />
      <parent link="limb4_link3" />
      <child link="limb4_link4" />
      <limit effort="1000.0" lower="-3.1415" upper="3.1415" velocity="0.5"/>
      <dynamics damping="0" friction="0"/>
   </joint>

   <joint name="limb4_joint5" type="revolute">
      <origin xyz="0.28650 -0.11700 0.00000"  rpy="0.00000 -0.00000 0.00000" />
      <axis xyz="1 0 0" />
      <parent link="limb4_link4" />
      <child link="limb4_link5" />
      <limit effort="1000.0" lower="-3.1415" upper="3.1415" velocity="0.5"/>
      <dynamics damping="0" friction="0"/>
   </joint>

   <joint name="limb4_joint6" type="revolute">
      <origin xyz="0.00000 0.00000 0.00000"  rpy="0.00000 -0.00000 0.00000" />
      <axis xyz="0 -1 0" />
      <parent link="limb4_link5" />
      <child link="limb4_link6" />
      <limit effort="1000.0" lower="-3.1415" upper="3.1415" velocity="0.5"/>
      <dynamics damping="0" friction="0"/>
   </joint>


   <joint name="limb4_joint7" type="revolute">
      <origin xyz="0.19250 -0.11700 0.00000"  rpy="0.00000 -0.00000 0.00000" />
      <axis xyz="1 0 0" />
      <parent link="limb4_link6" />
      <child link="limb4_link7" />
      <limit effort="1000.0" lower="-3.1415" upper="3.1415" velocity="0.5"/>
      <dynamics damping="0" friction="0"/>
   </joint>






  <klampt package_root="../.." flip_yz="0" use_vis_geom="1" >
  </klampt>

</robot>
